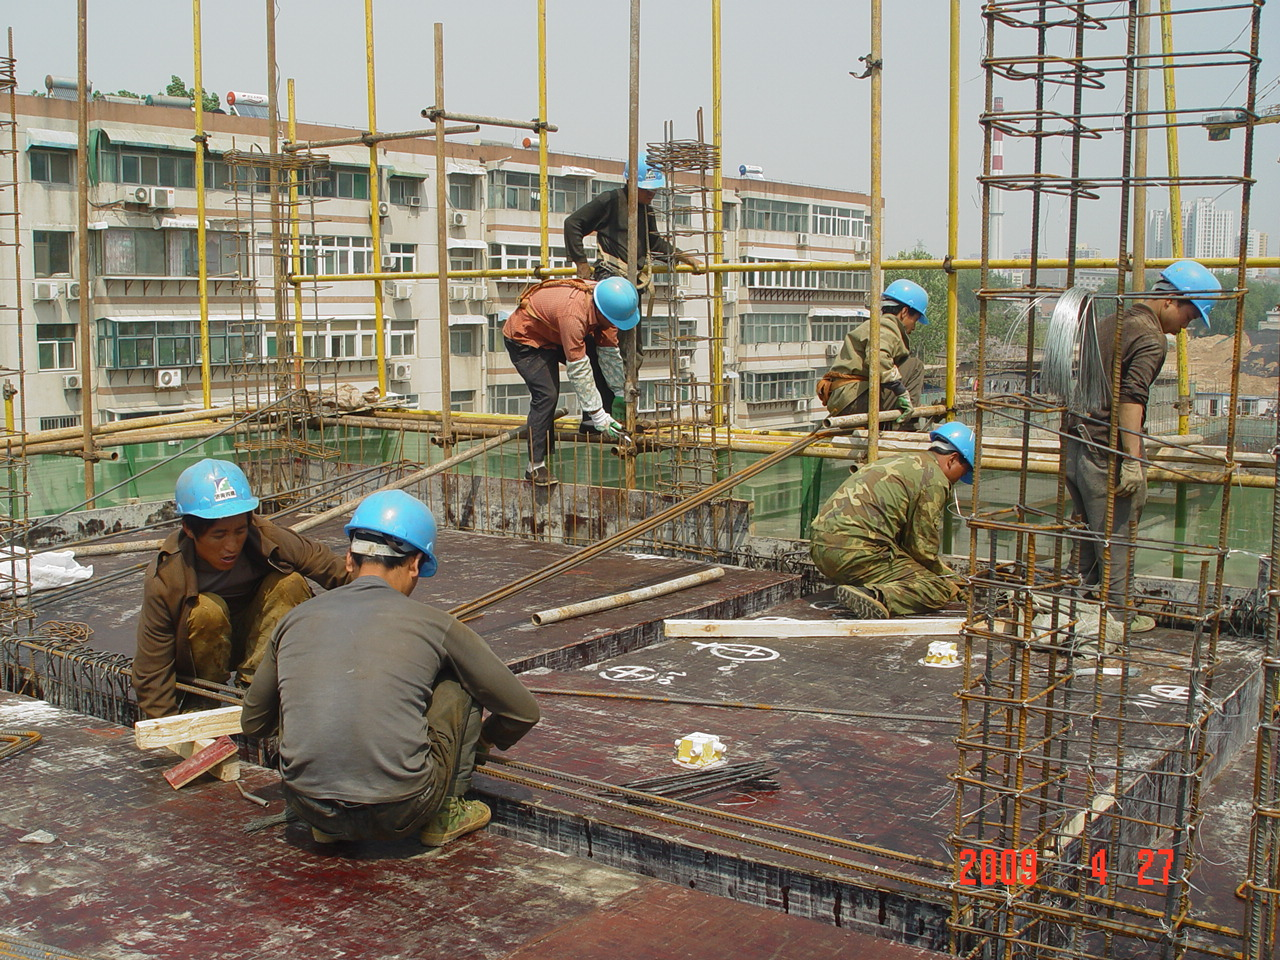safetyhat: (255, 467, 496, 863), (1063, 250, 1235, 562), (815, 407, 992, 631), (469, 274, 672, 466), (121, 431, 306, 629), (809, 266, 958, 414)
